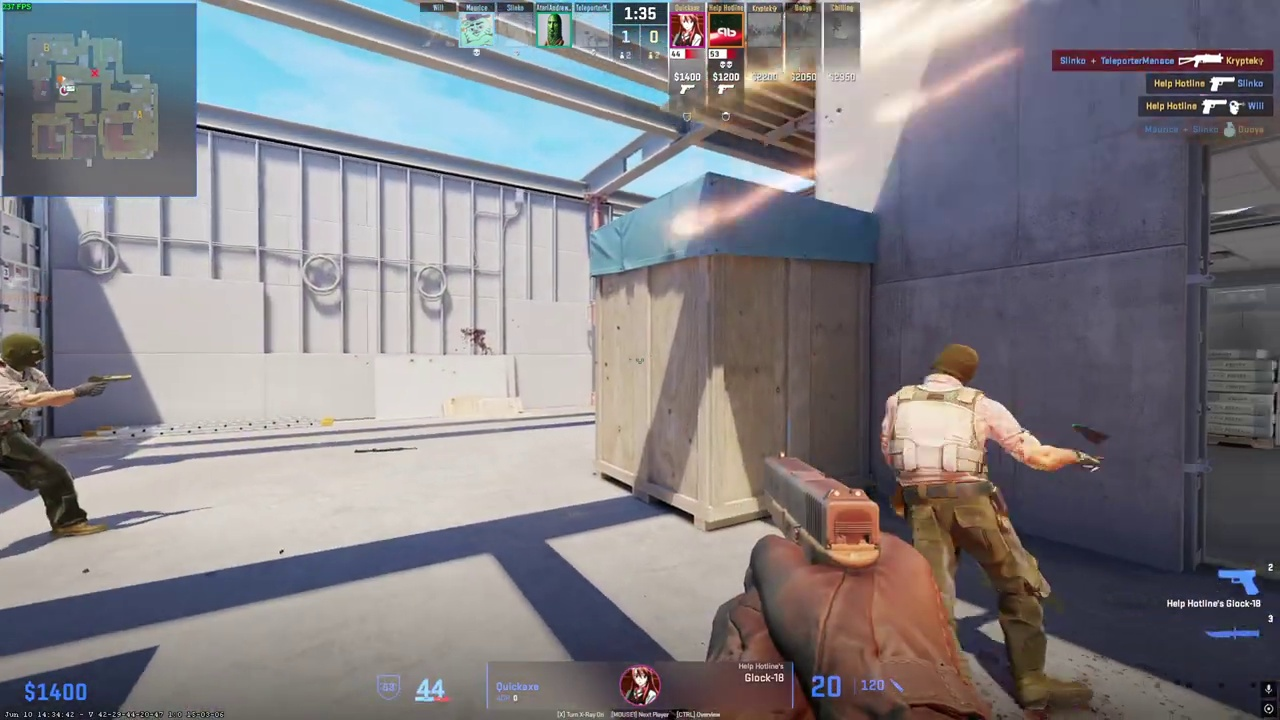Terrorist: (880, 344, 1044, 698), (0, 333, 81, 538)
